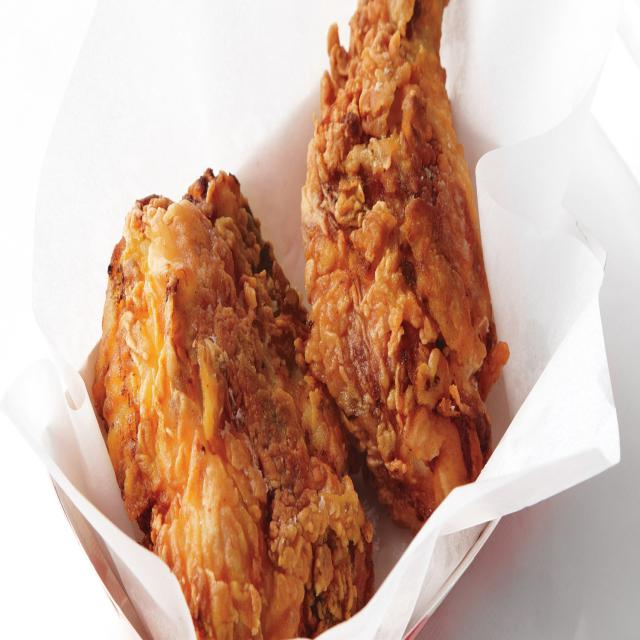Frango: (94, 5, 511, 638)
